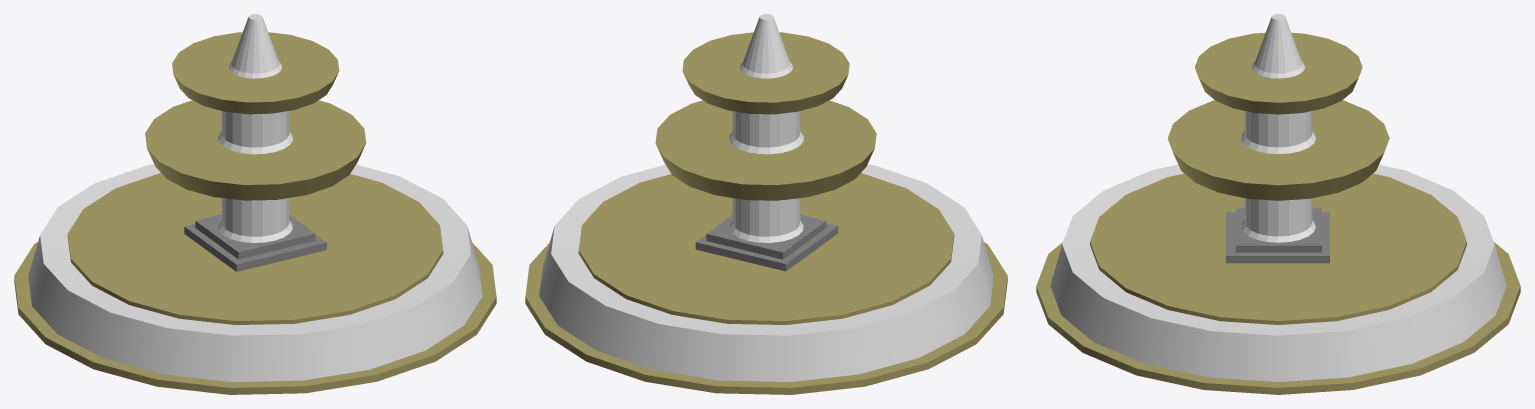
The model's file is Fountain.fbx.
3 views of the same model, side by side, from view 1: azimuth 30°, elevation 25°; view 2: azimuth 150°, elevation 25°; view 3: azimuth 270°, elevation 25° (orthographic).
Parts seen in each view (by area): view 1: pCylinder3, pCylinder2, pCylinder5, pCylinder7, pCylinder1, pCylinder6, pCylinder4, pCylinder8, pCube2, pCube1; view 2: pCylinder3, pCylinder2, pCylinder5, pCylinder7, pCylinder1, pCylinder6, pCylinder4, pCylinder8, pCube2, pCube1; view 3: pCylinder3, pCylinder2, pCylinder5, pCylinder7, pCylinder1, pCylinder6, pCylinder4, pCylinder8, pCube1, pCube2.
Part boxes in pixels (bbox=[...]): pCylinder3: bbox=[67, 173, 443, 324]; pCylinder2: bbox=[28, 164, 482, 381]; pCylinder5: bbox=[145, 100, 366, 200]; pCylinder7: bbox=[172, 32, 339, 114]; pCylinder1: bbox=[14, 242, 496, 394]; pCylinder6: bbox=[218, 198, 292, 242]; pCylinder4: bbox=[218, 111, 292, 154]; pCylinder8: bbox=[229, 14, 281, 78]; pCube2: bbox=[195, 214, 315, 259]; pCube1: bbox=[184, 224, 326, 271]; pCylinder3: bbox=[578, 173, 954, 324]; pCylinder2: bbox=[539, 164, 993, 381]; pCylinder5: bbox=[655, 100, 876, 200]; pCylinder7: bbox=[682, 32, 849, 114]; pCylinder1: bbox=[525, 242, 1007, 394]; pCylinder6: bbox=[729, 198, 803, 242]; pCylinder4: bbox=[729, 111, 803, 154]; pCylinder8: bbox=[740, 14, 792, 78]; pCube2: bbox=[706, 214, 826, 259]; pCube1: bbox=[695, 223, 838, 271]; pCylinder3: bbox=[1090, 173, 1466, 324]; pCylinder2: bbox=[1050, 164, 1506, 381]; pCylinder5: bbox=[1167, 100, 1389, 200]; pCylinder7: bbox=[1194, 32, 1362, 114]; pCylinder1: bbox=[1036, 242, 1520, 394]; pCylinder6: bbox=[1241, 198, 1315, 242]; pCylinder4: bbox=[1241, 111, 1315, 154]; pCylinder8: bbox=[1251, 14, 1305, 78]; pCube1: bbox=[1225, 212, 1329, 263]; pCube2: bbox=[1235, 208, 1321, 252].
Bounding box in the file's own units: 17.7 × 11.12 × 17.7.
